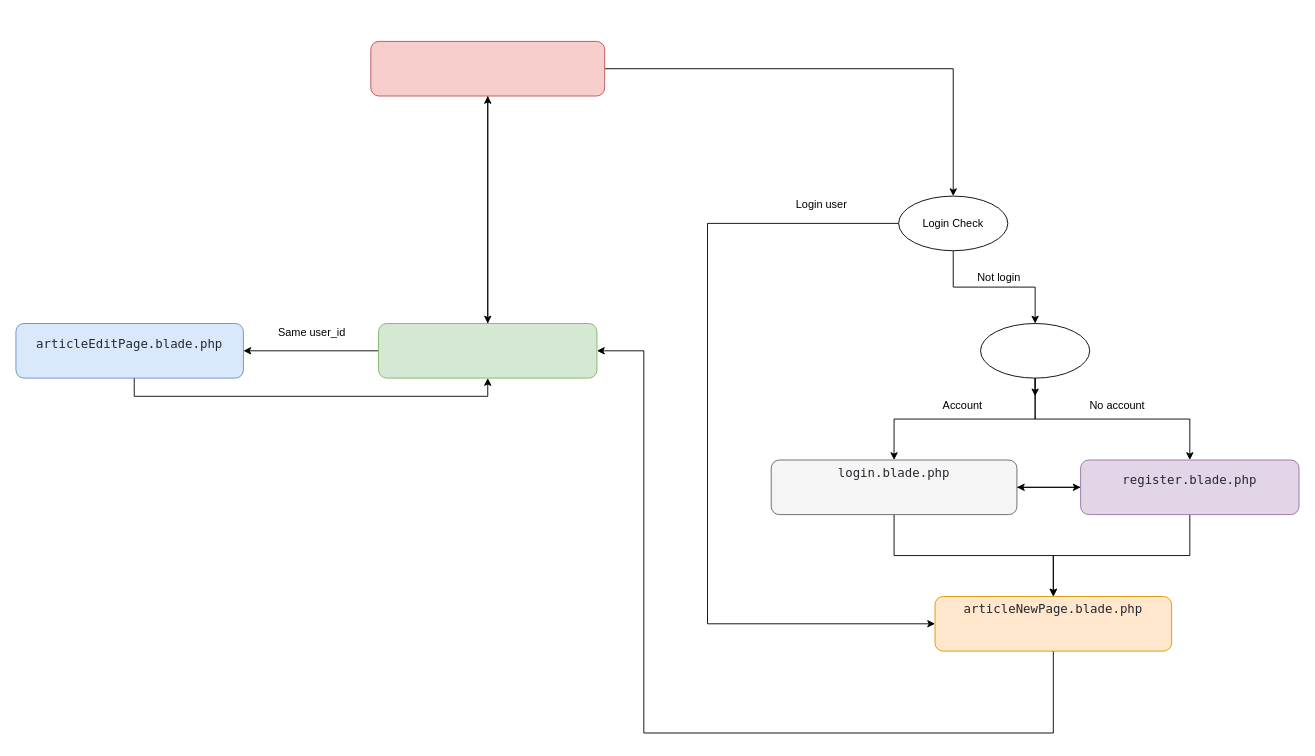
Image size: 1315x756. Some labels were removed from this diagram. Each missing label, with the centre of its shape:
"Account Check" belongs at point 1035,350.
"articleListPage.blade.php" belongs at point 487,68.
"articleShowPage.blade.php" belongs at point 487,350.
